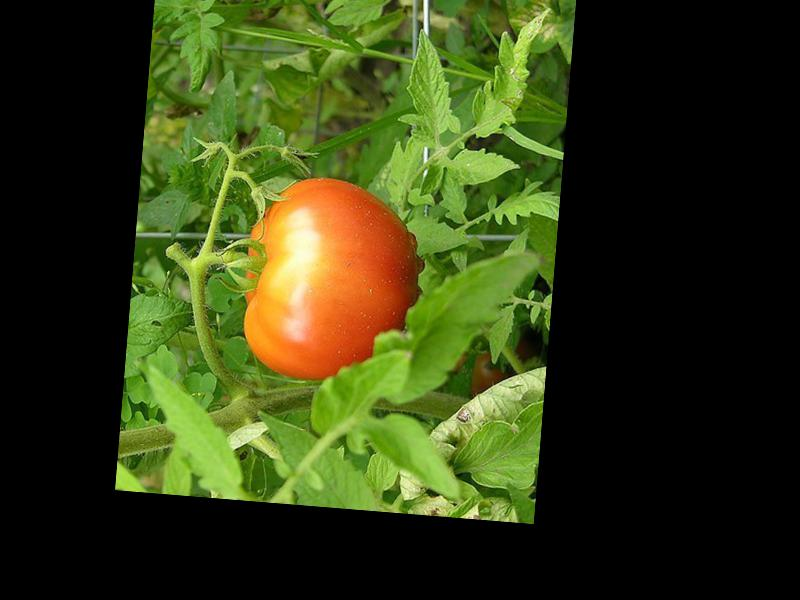Tomato: (236, 173, 422, 386)
